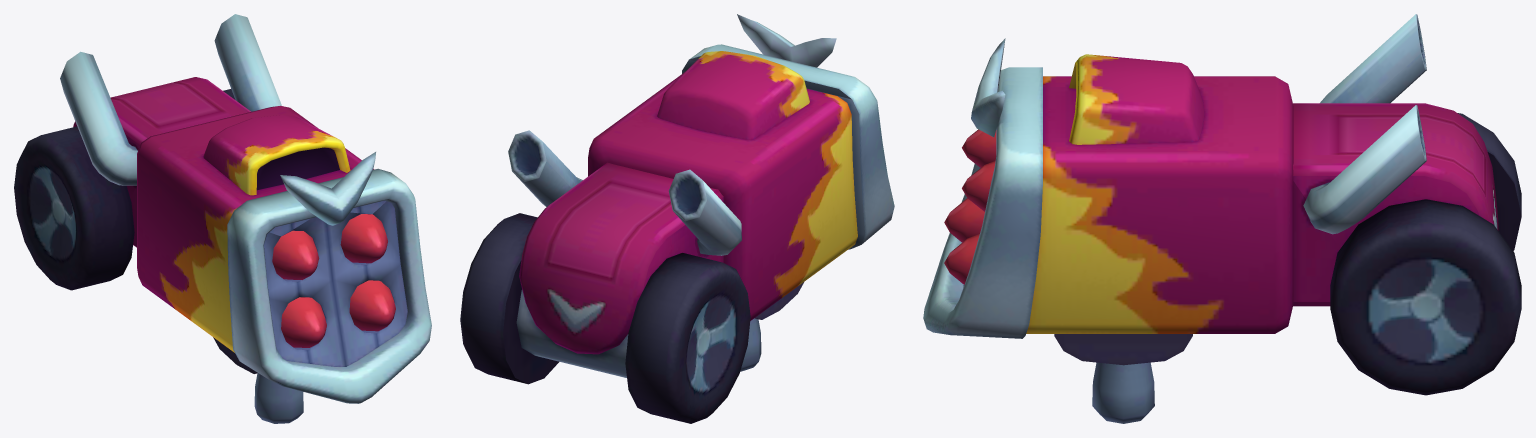
The model's file is Brock_Gun.fbx.
3 views of the same model, side by side, from view 1: azimuth 30°, elevation 25°; view 2: azimuth 150°, elevation 25°; view 3: azimuth 270°, elevation 25° (orthographic). The views are drawn at different scales.
Visible parts, largest first — view 1: car_launcher; view 2: car_launcher; view 3: car_launcher.
Part boxes in pixels (box(x1,y1,x2,y2)): car_launcher: box(14, 14, 431, 423); car_launcher: box(460, 14, 894, 423); car_launcher: box(923, 14, 1521, 423).
Size of the model in its own units: 42.3 by 57.94 by 87.94.
